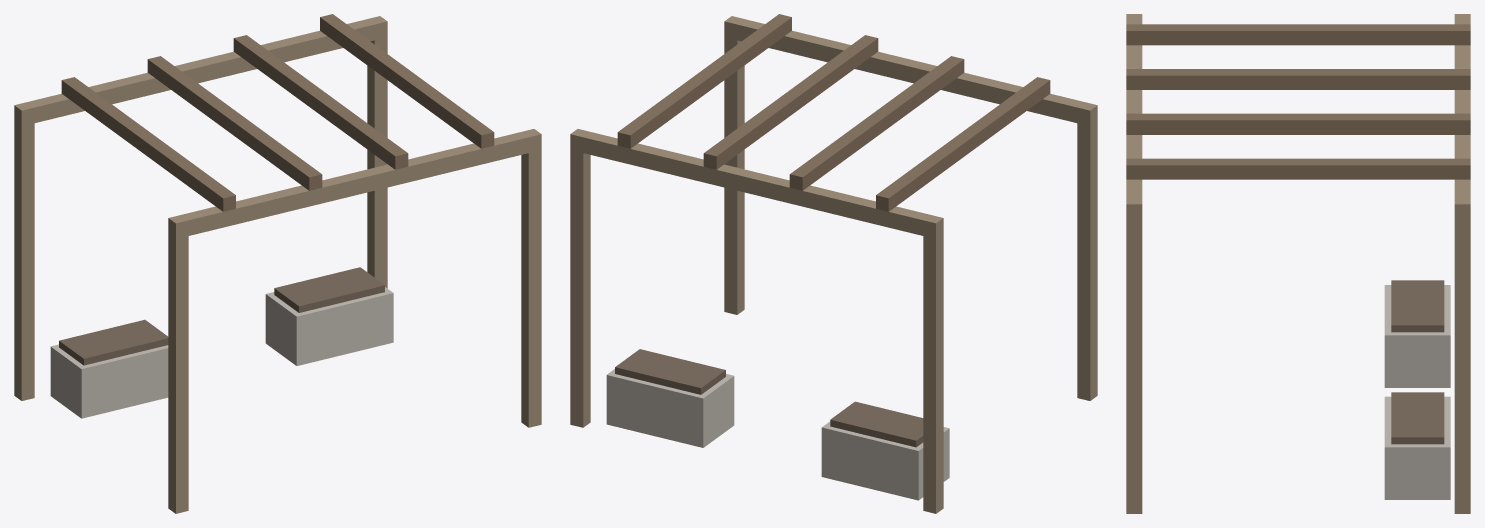
The model's file is terrace-detail.glb.
The picture shows the model from 3 angles, left to right: view 1: azimuth 30°, elevation 25°; view 2: azimuth 150°, elevation 25°; view 3: azimuth 270°, elevation 25°; orthographic projection. The views are drawn at different scales.
Parts seen in each view (by area): view 1: TerracePergola, TerracePergolaSlats, TerracePlanterB, TerracePlanterA, TerracePlanterBSoil, TerracePlanterASoil; view 2: TerracePergola, TerracePergolaSlats, TerracePlanterB, TerracePlanterA, TerracePlanterBSoil, TerracePlanterASoil; view 3: TerracePergolaSlats, TerracePergola, TerracePlanterB, TerracePlanterA, TerracePlanterASoil, TerracePlanterBSoil.
Boxes of the visible parts, left/top/right/bottom form: TerracePergola: left=14, top=16, right=541, bottom=513; TerracePergolaSlats: left=61, top=14, right=494, bottom=211; TerracePlanterB: left=265, top=287, right=393, bottom=365; TerracePlanterA: left=50, top=344, right=168, bottom=418; TerracePlanterBSoil: left=274, top=267, right=384, bottom=312; TerracePlanterASoil: left=59, top=319, right=168, bottom=365; TerracePergola: left=570, top=16, right=1097, bottom=513; TerracePergolaSlats: left=617, top=14, right=1050, bottom=211; TerracePlanterB: left=606, top=369, right=734, bottom=447; TerracePlanterA: left=821, top=421, right=949, bottom=500; TerracePlanterBSoil: left=615, top=349, right=725, bottom=394; TerracePlanterASoil: left=830, top=401, right=923, bottom=447; TerracePergolaSlats: left=1126, top=24, right=1470, bottom=179; TerracePergola: left=1126, top=14, right=1470, bottom=513; TerracePlanterB: left=1384, top=396, right=1450, bottom=499; TerracePlanterA: left=1384, top=285, right=1450, bottom=387; TerracePlanterASoil: left=1391, top=280, right=1444, bottom=332; TerracePlanterBSoil: left=1391, top=392, right=1444, bottom=444.
Bounding box in the file's own units: 3.4 × 2.7 × 2.6.
